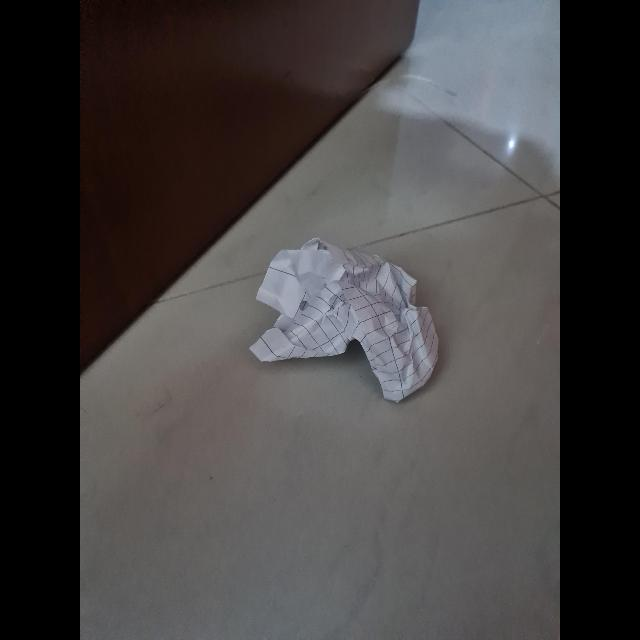scrap_paper: (252, 246, 448, 402)
